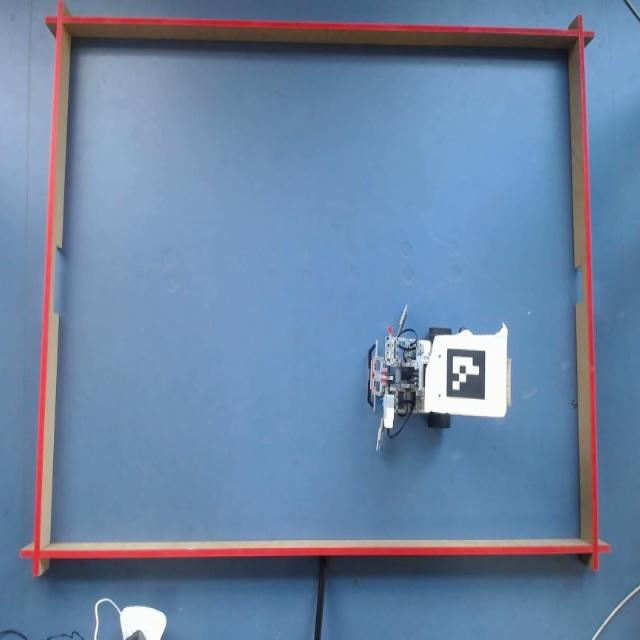ev3: (368, 304, 511, 452)
